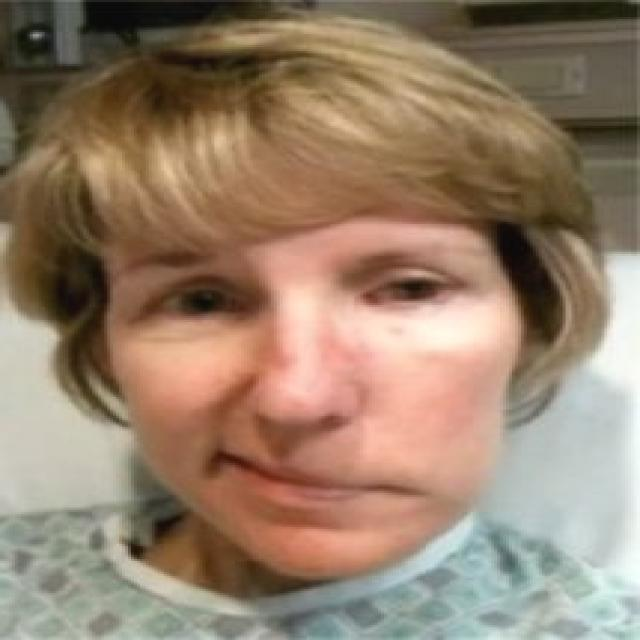stroke_face: (105, 81, 520, 581)
